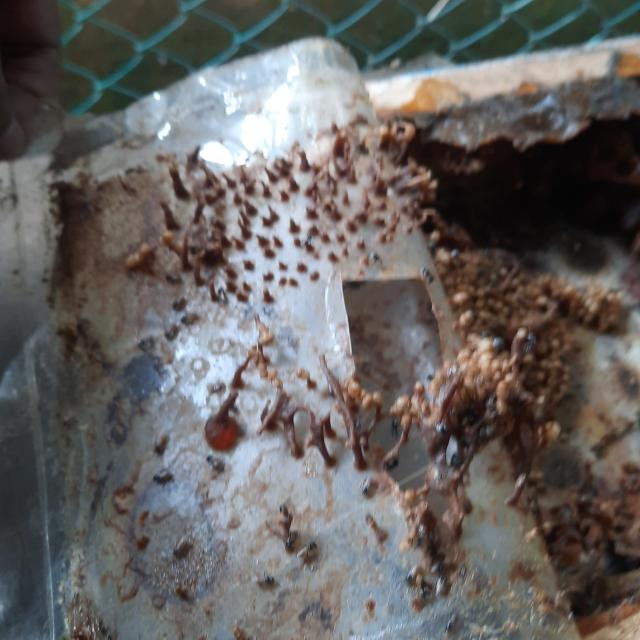honeybee: (294, 535, 319, 565), (250, 568, 281, 590), (282, 529, 304, 556), (172, 535, 192, 562), (276, 503, 297, 527), (204, 453, 225, 475), (153, 431, 170, 457), (420, 264, 438, 286), (414, 523, 428, 549), (132, 334, 154, 350), (445, 610, 460, 633), (486, 391, 502, 411), (180, 311, 201, 326), (152, 470, 174, 484), (424, 240, 440, 258), (491, 336, 508, 352), (360, 476, 375, 494), (215, 285, 229, 304), (389, 416, 401, 438), (430, 556, 446, 572), (171, 298, 192, 310), (163, 271, 182, 284), (435, 573, 447, 593), (480, 426, 495, 442), (525, 329, 535, 352), (405, 563, 417, 582), (369, 250, 384, 265), (165, 324, 179, 340), (301, 232, 315, 248), (435, 421, 450, 435), (417, 584, 429, 598), (459, 436, 473, 448), (354, 418, 364, 433), (452, 454, 460, 470), (451, 249, 459, 258)
